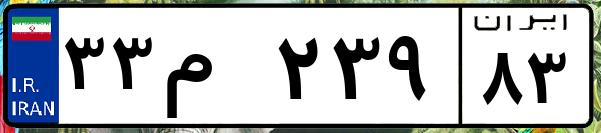2: (270, 28, 330, 110)
3: (330, 28, 385, 110), (57, 26, 110, 100), (525, 38, 570, 115), (110, 28, 158, 98)
8: (475, 38, 525, 113)
9: (385, 28, 445, 110)
م: (158, 20, 270, 120)
